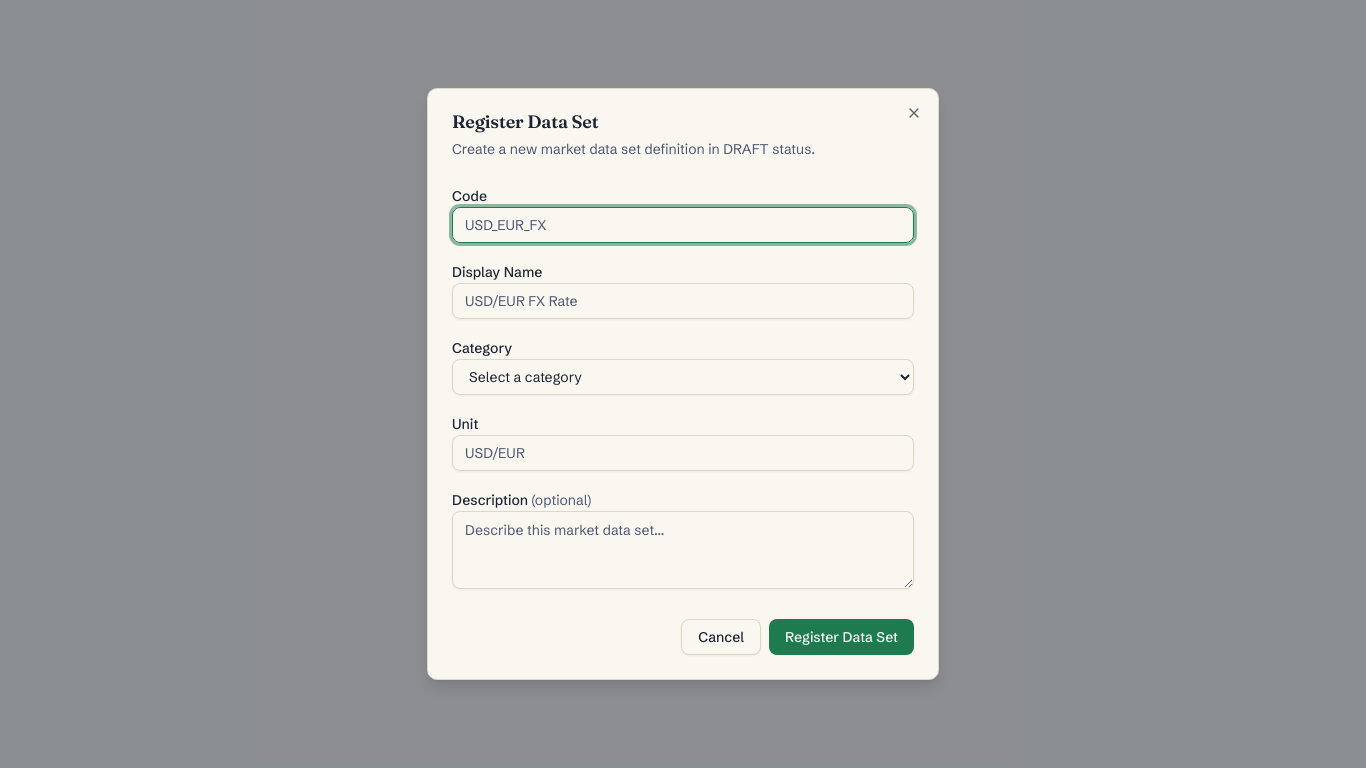
Test: RegisterDataSetDialog - code validation › shows error for code shorter than 2 characters
Type "A" into the field labelled "Code".
click(683, 225); type("A")  # box [452,207,914,243]
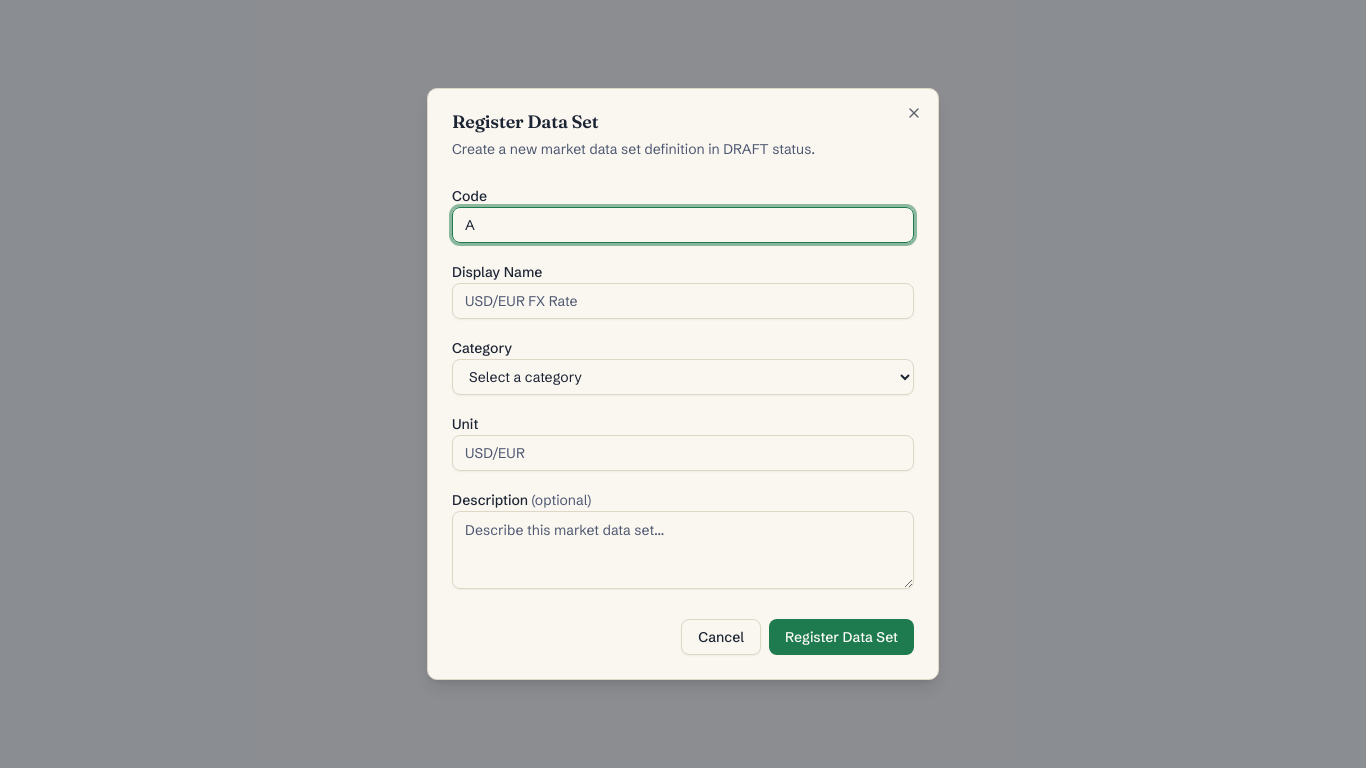
Click the button "Register Data Set".
click(842, 637)  # box [769,619,914,655]
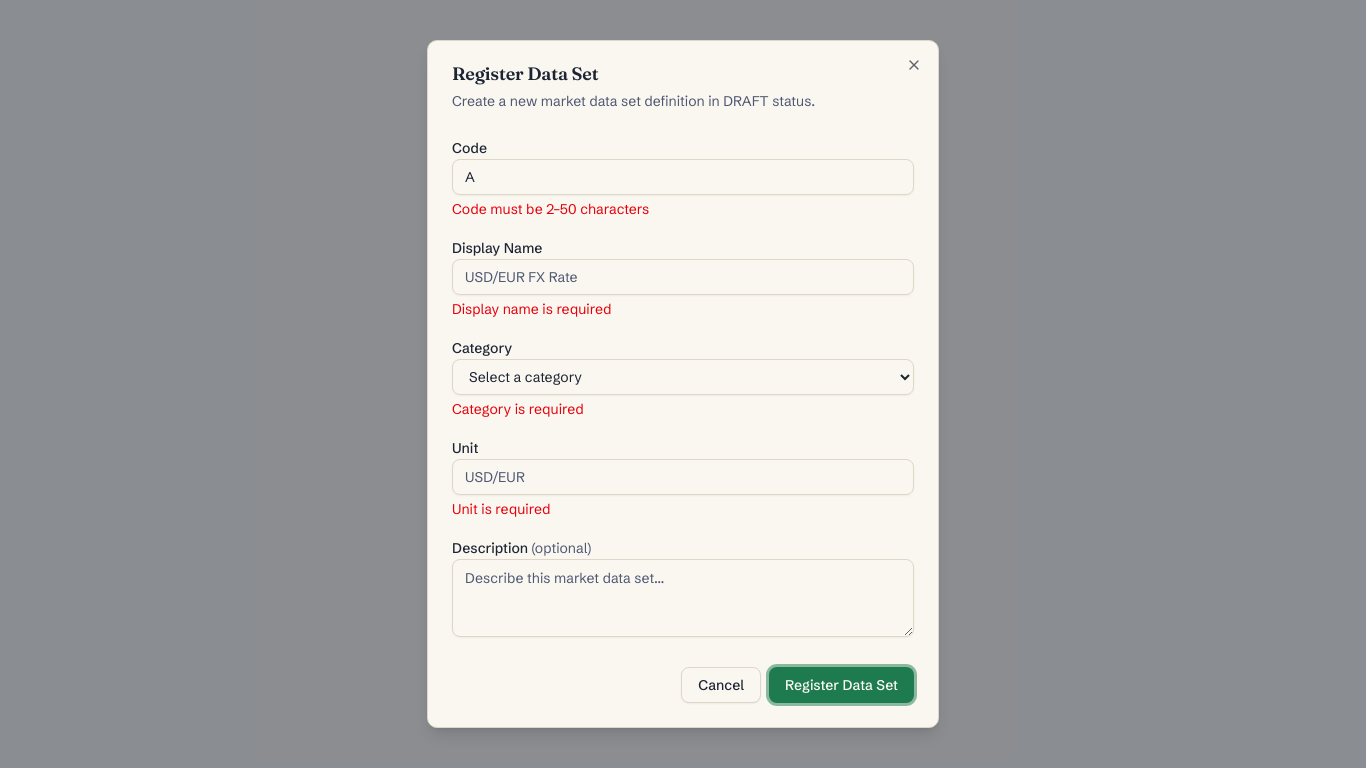
expect the text "Code must be 2–50 characters" is shown: met, box [452,200,649,218]
